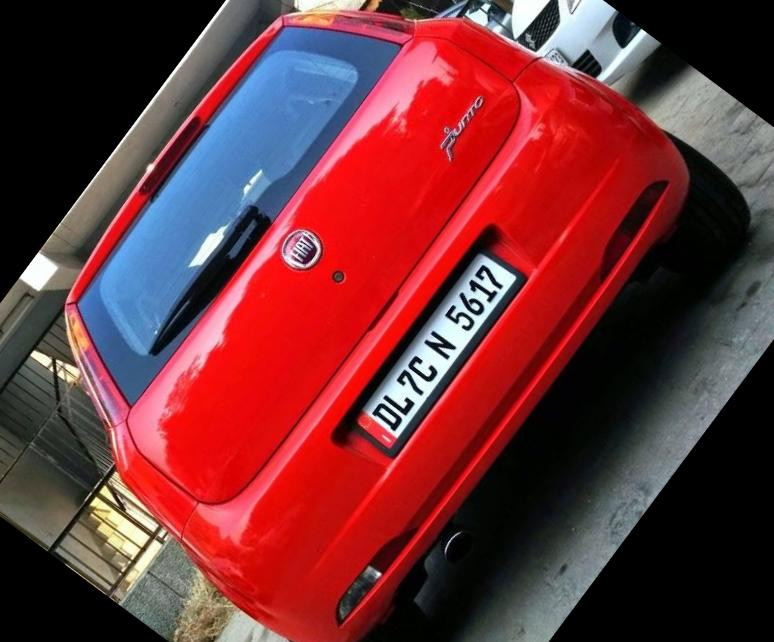plate: (337, 230, 552, 477)
